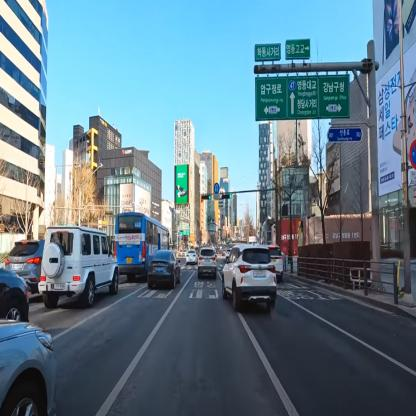Green: (220, 193, 233, 200), (201, 192, 212, 200)
